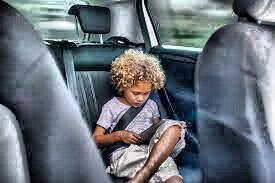seatbelt: (99, 83, 163, 162), (63, 41, 83, 97)
